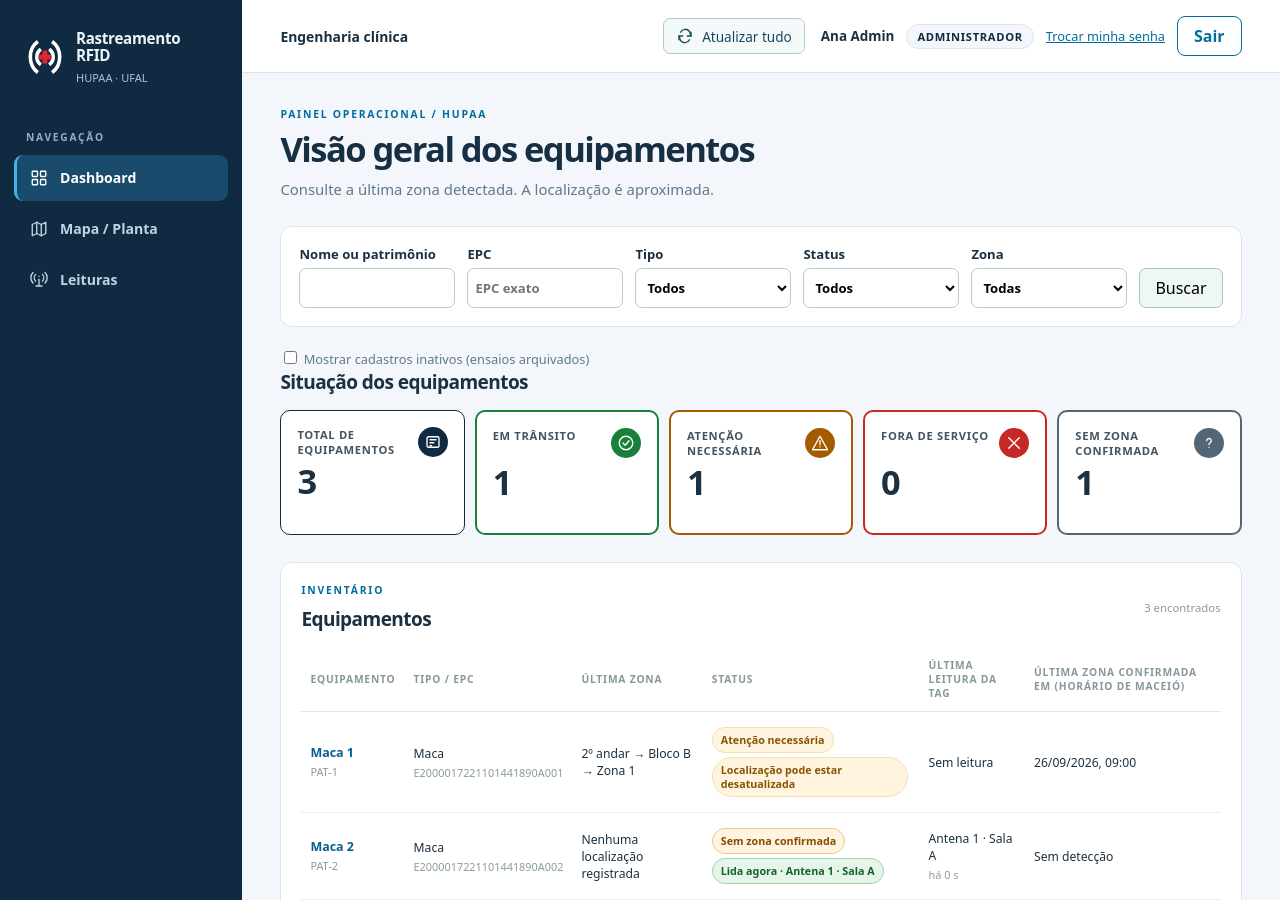
integração da busca › lista equipamentos detectados abaixo dos mapas e indica leitura sem zona
The width and height of the screenshot is (1280, 900).
Expected: the text "Sem zona confirmada" next to "Nenhuma localização registrada" is shown, [721,834,836,848]
Expected: the text "Lida agora · Antena 1 · Sala A" is shown, [712,858,884,884]
Click the link "Mapa / Planta": point(94, 229) [30,219,158,238]
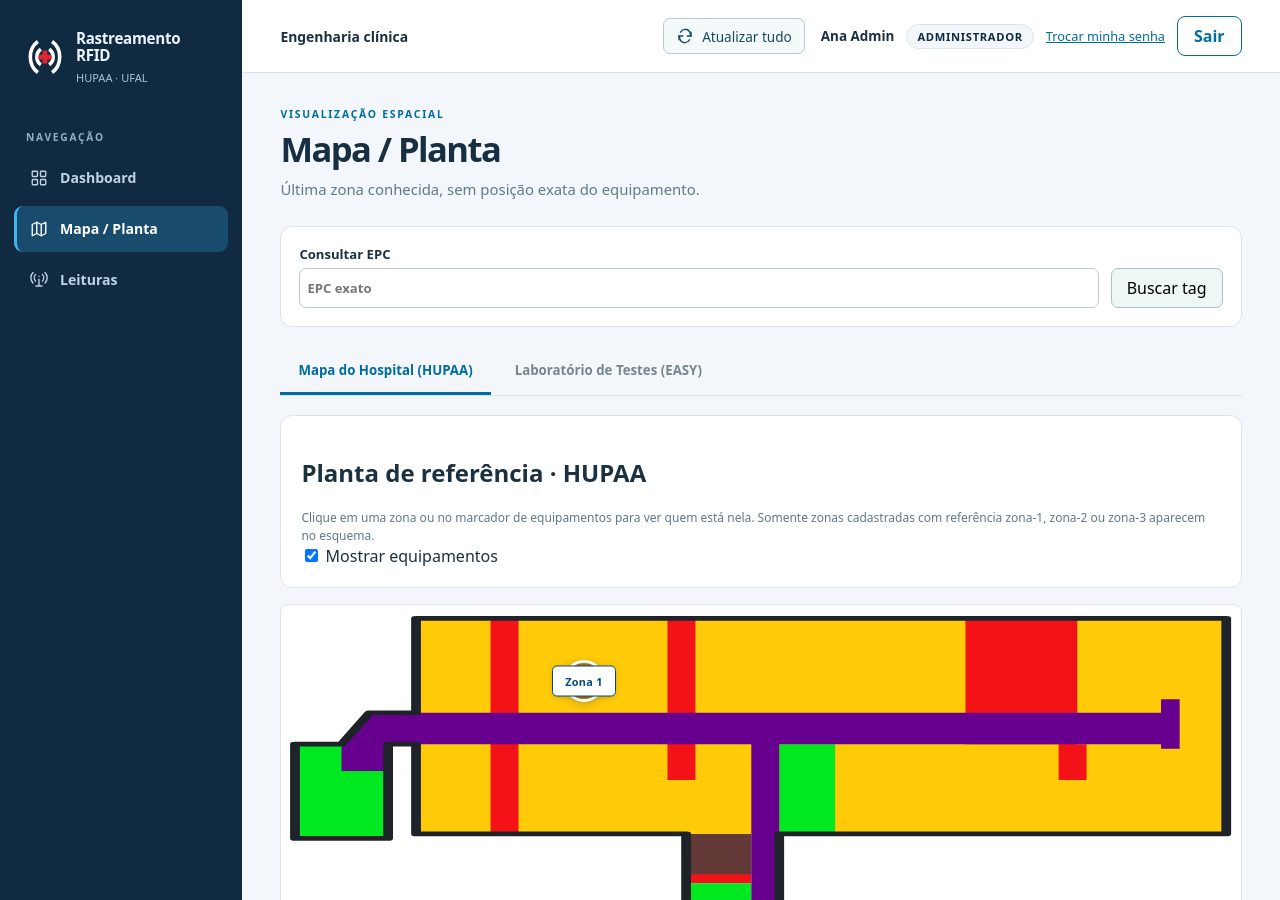
Click the tab "Laboratório de Testes (EASY)": point(608, 371) [497,347,720,395]
(page scrolled)
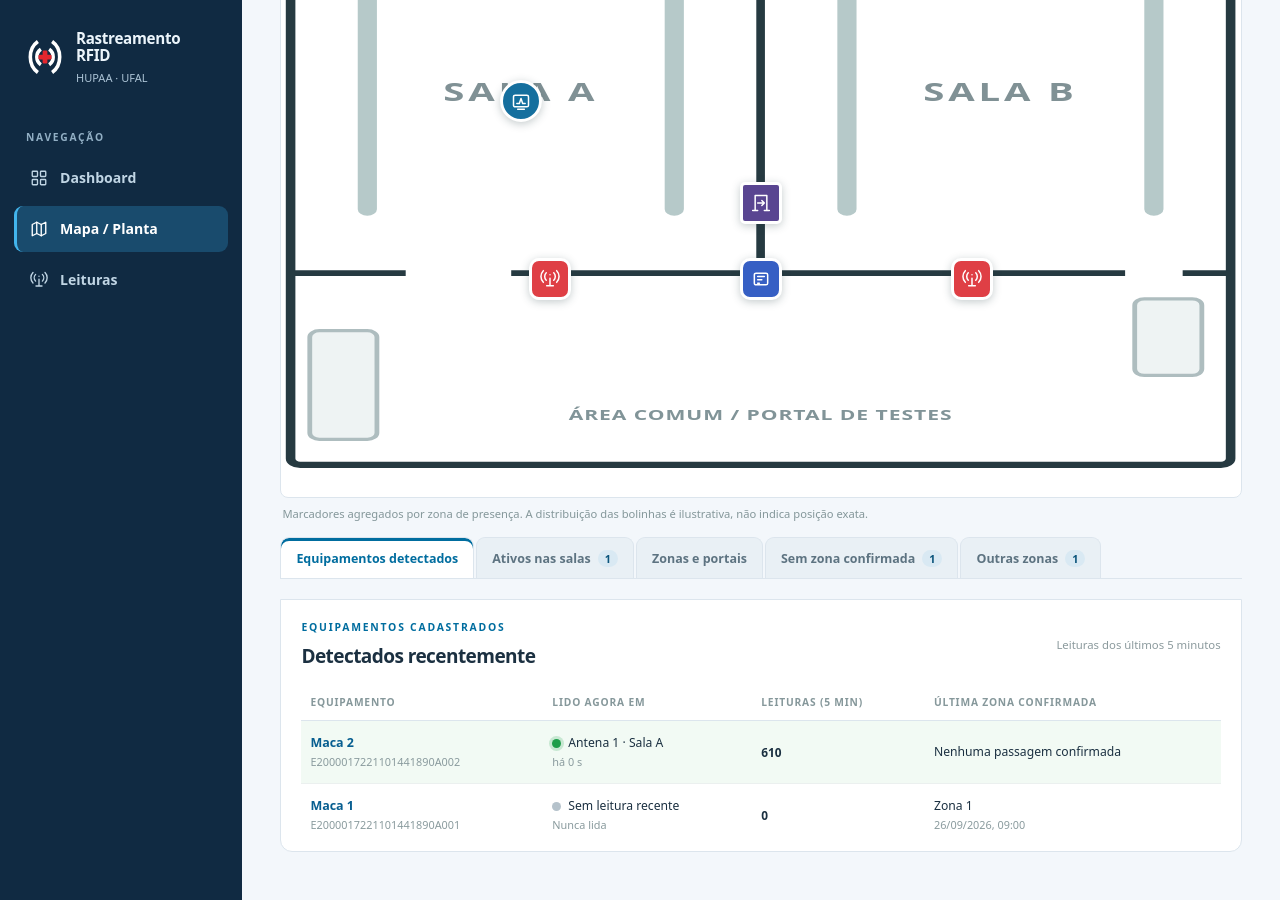
Click the button "Maca 2 E2000017221101441890A002": point(385, 751) [310,734,460,769]
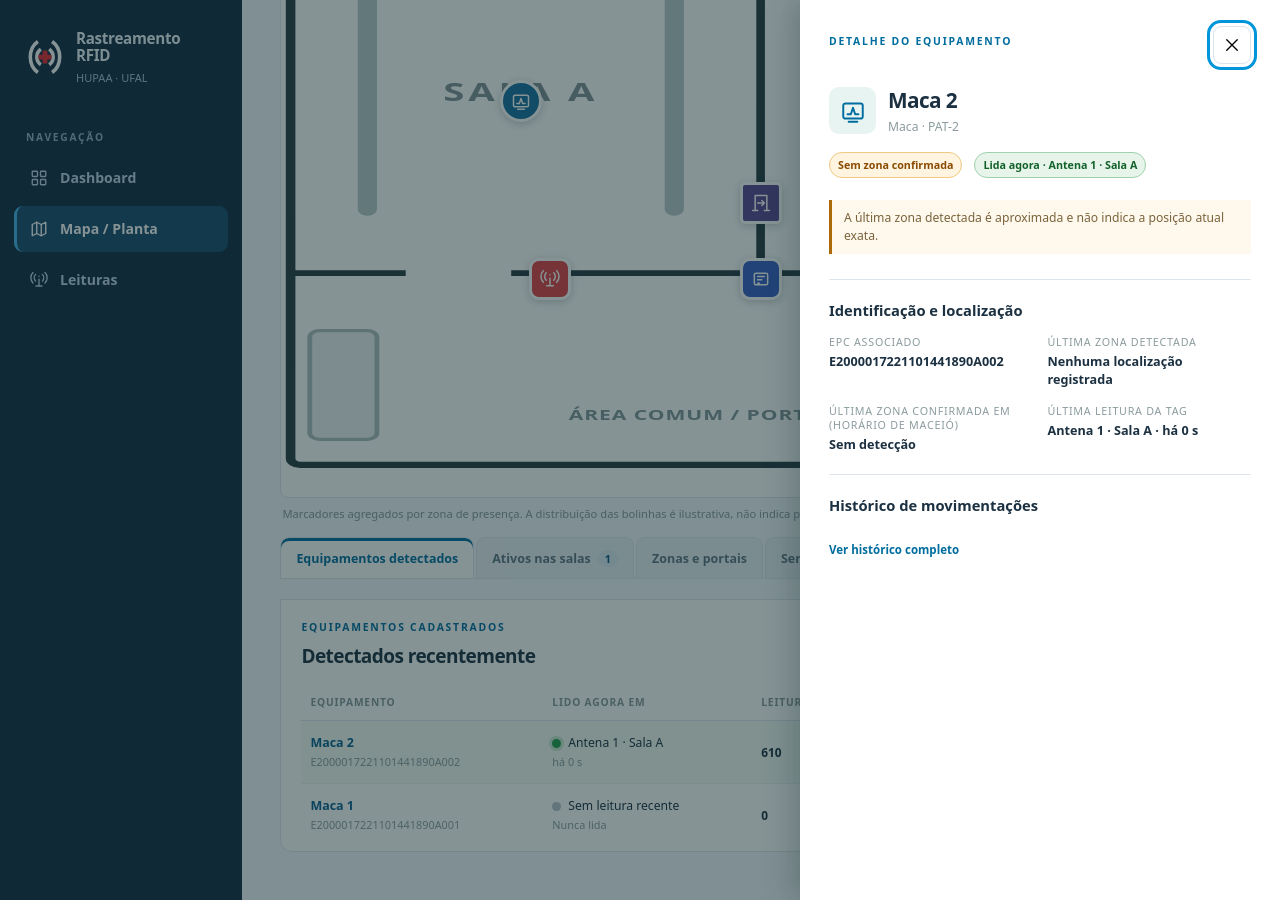
Now the dialog shows "Antena 1 · Sala A", box [1048,158,1137,172]
